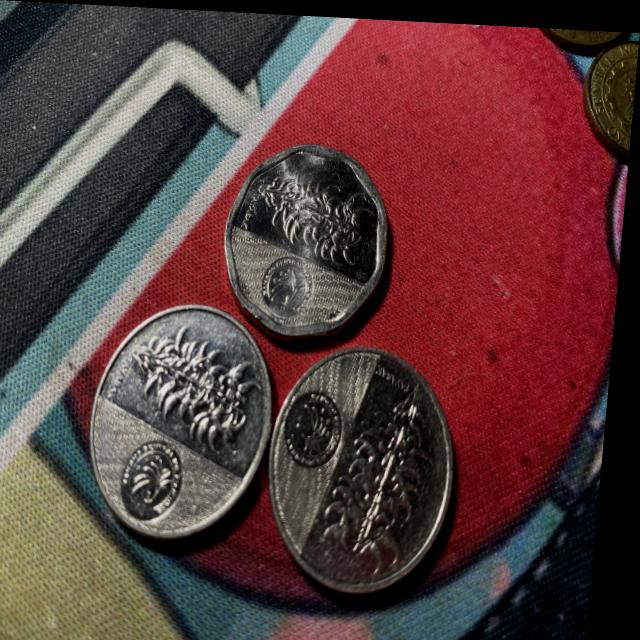5_New_Back: (337, 368, 443, 573), (127, 324, 266, 450), (257, 165, 383, 270)
